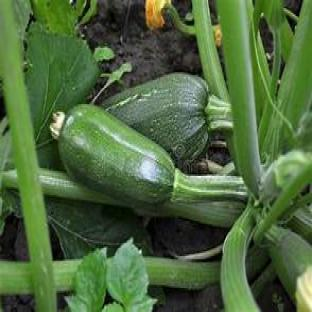Zucchini: (51, 104, 247, 204), (102, 74, 231, 163)
